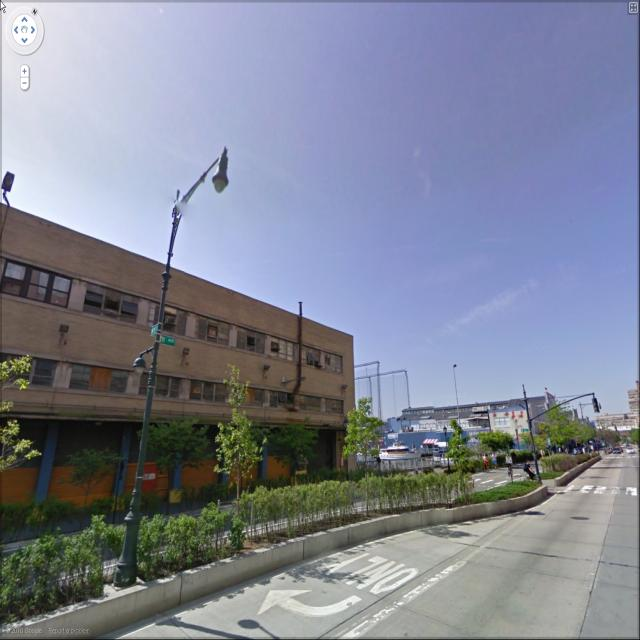b_1: (1, 200, 357, 464), (388, 399, 574, 448), (585, 411, 638, 447), (621, 377, 640, 413)
